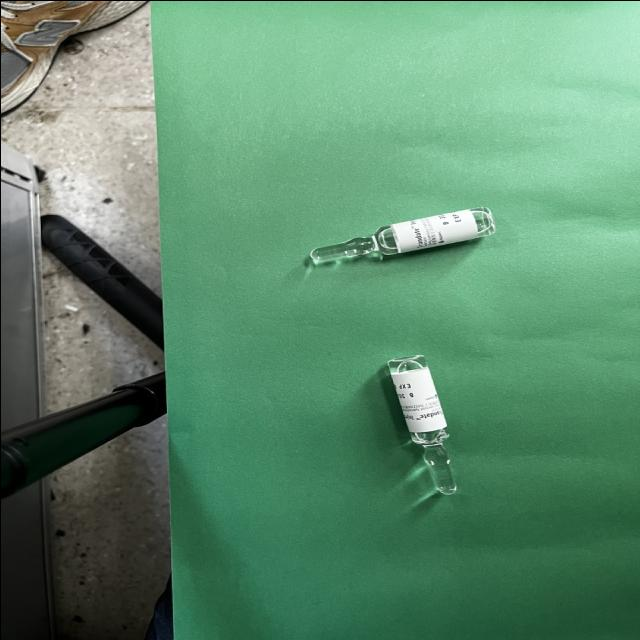Ampoules: (386, 354, 456, 495), (310, 206, 495, 259)
